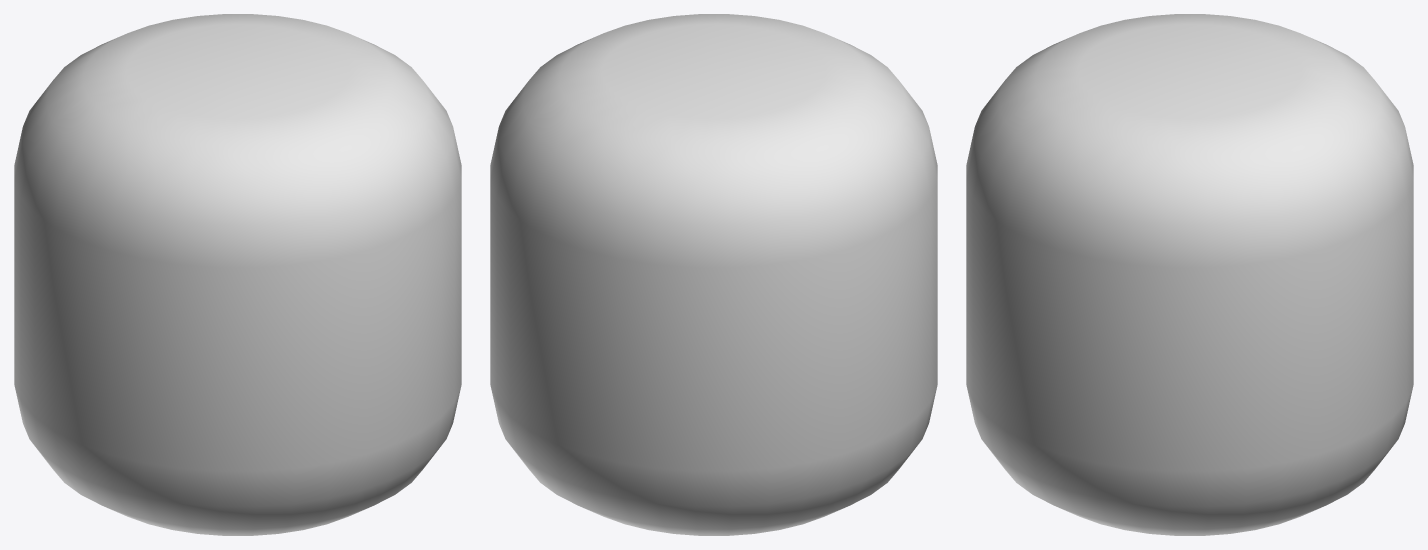
The model's file is 21-Silly-face.glb.
3 renders of one model, left to right at view 1: azimuth 30°, elevation 25°; view 2: azimuth 150°, elevation 25°; view 3: azimuth 270°, elevation 25°, orthographic.
Parts seen in each view (by area): view 1: 21-Silly-face; view 2: 21-Silly-face; view 3: 21-Silly-face.
Part boxes in pixels (bbox=[...]): 21-Silly-face: bbox=[14, 14, 461, 535]; 21-Silly-face: bbox=[490, 14, 937, 535]; 21-Silly-face: bbox=[966, 14, 1413, 535].
Size of the model in its own units: 1.2 by 1.2 by 1.2.
Materials: 1 (1 with a texture image).
